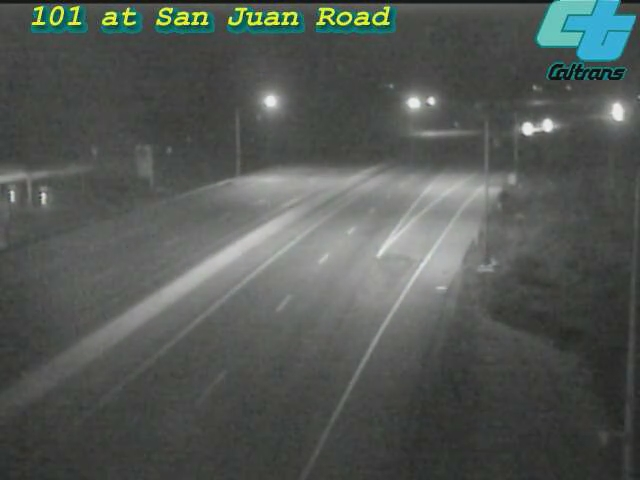vehicle: (519, 102, 569, 152), (500, 104, 550, 154), (589, 87, 639, 137)
